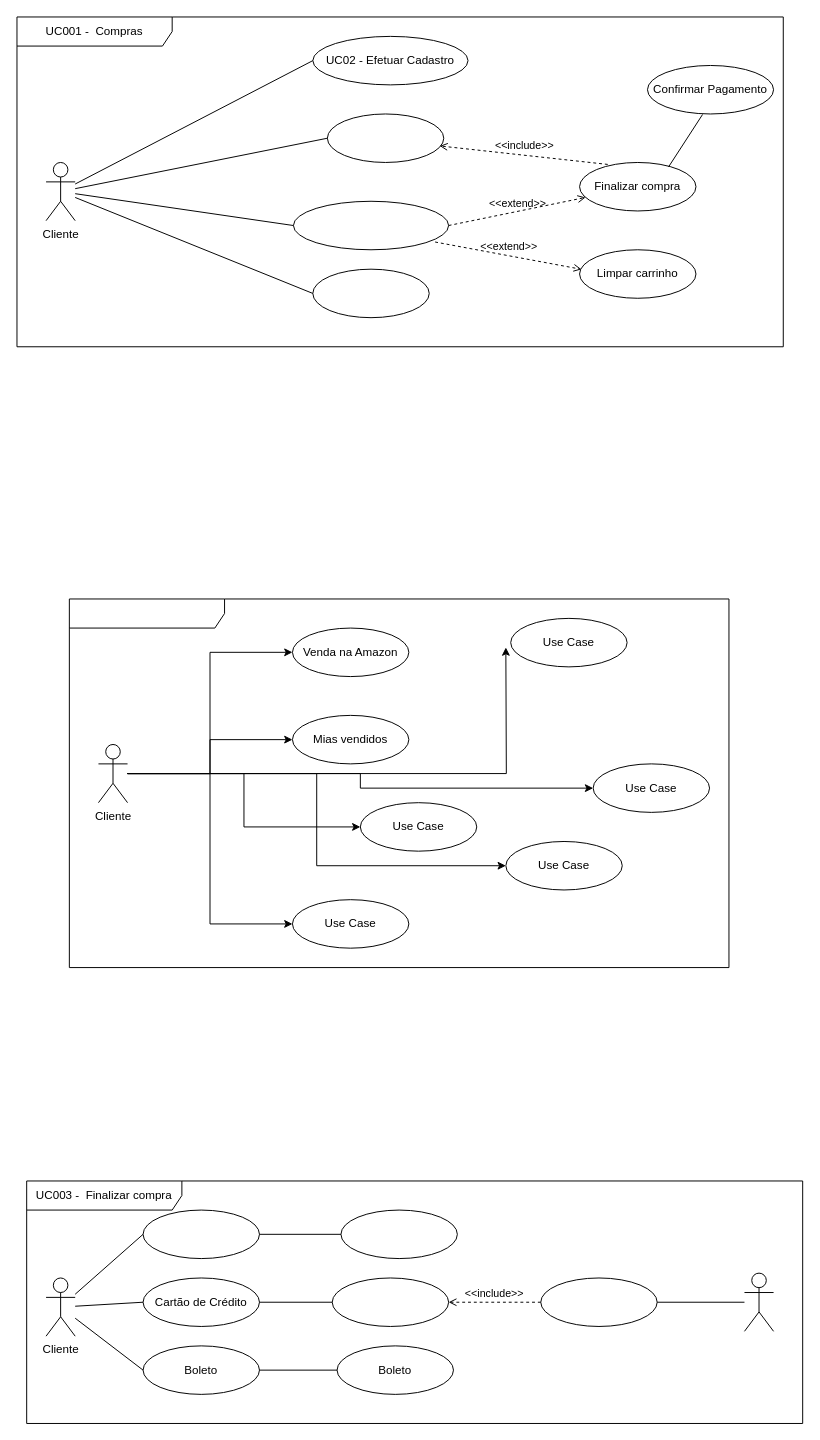
Image size: 820x1440. Some labels were removed from this diagram. The shapes that lost their labels are listed below. From the top down, each one's centre as x and y in pixels, then its label:
[385,137]: Realizar Login
[370,225]: Adicionar item no carrinho
[370,293]: Pesquisar Produto
[398,783]: UC002 - Menu
[200,1234]: PIX
[398,1234]: Gerar chave PIX
[390,1301]: Enviar dados Cartão
[598,1301]: Validar dados
[759,1301]: Adm Cartões
